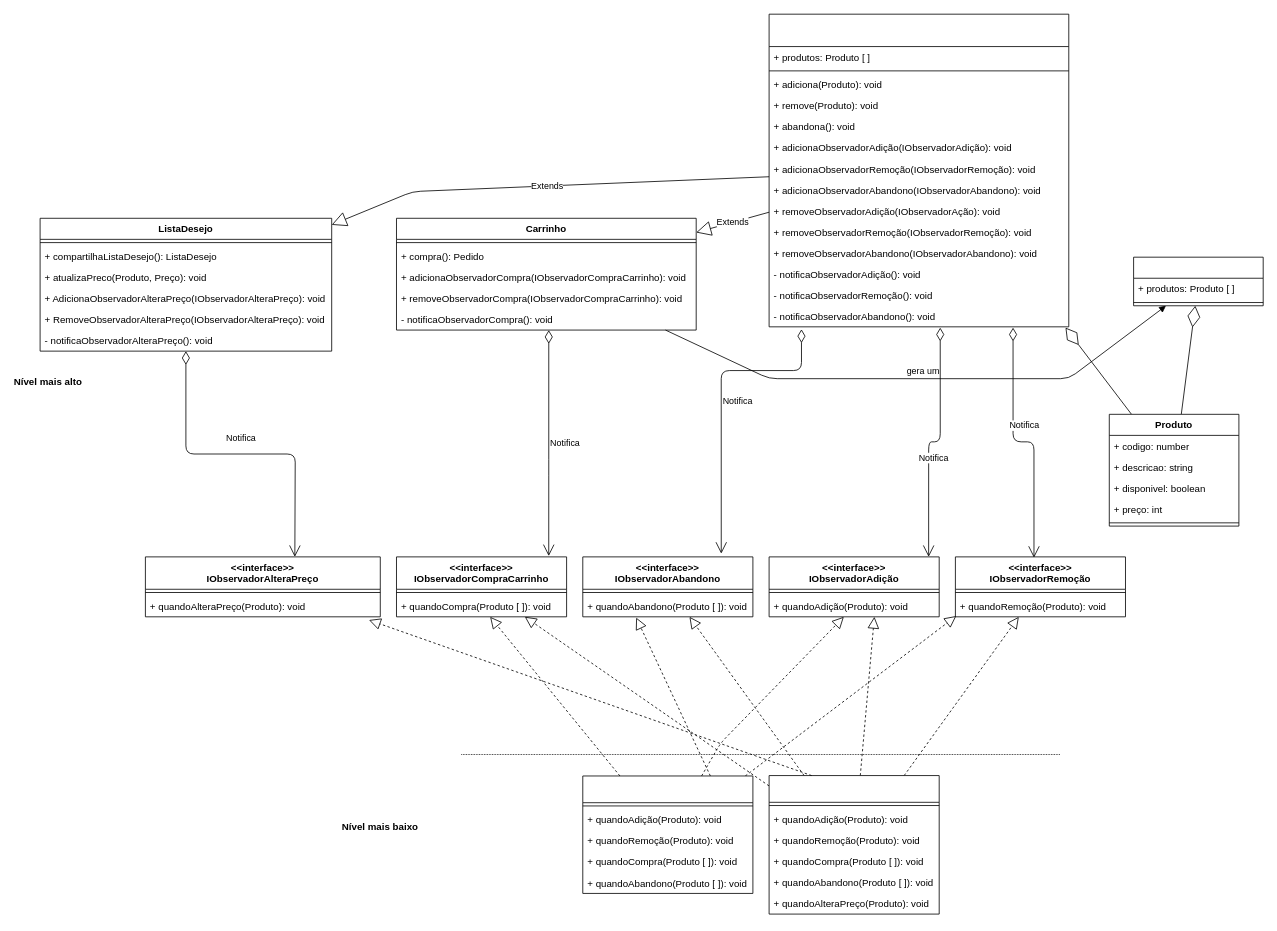
Image size: 1277x931. Some labels were removed from this diagram. Each missing label, with the box of its shape:
Logger: (582, 775, 753, 893)
ManipuladorProduto: (768, 13, 1069, 327)
Marketing: (768, 775, 939, 914)
Pedido: (1133, 256, 1263, 306)
